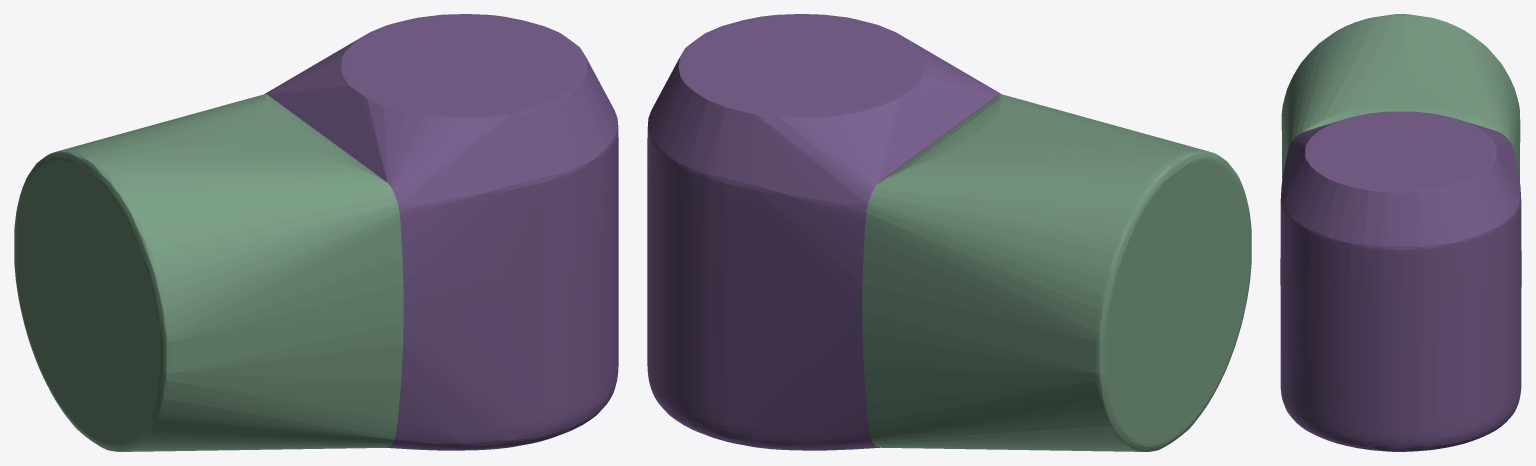
File: arm_l5.obj
The picture shows the model from 3 angles, left to right: view 1: azimuth 30°, elevation 25°; view 2: azimuth 150°, elevation 25°; view 3: azimuth 270°, elevation 25°; orthographic projection. The views are drawn at different scales.
Visible parts, largest first — view 1: geometry_0, geometry_1; view 2: geometry_0, geometry_1; view 3: geometry_1, geometry_0.
Boxes of the visible parts, x1,y1,x2,y2 form: geometry_0: (14, 94, 403, 451); geometry_1: (264, 14, 618, 450); geometry_0: (862, 94, 1251, 451); geometry_1: (647, 14, 1001, 450); geometry_1: (1280, 111, 1521, 451); geometry_0: (1281, 14, 1520, 180).
Bounding box in the file's own units: 0.1199 × 0.0737 × 0.0629.
